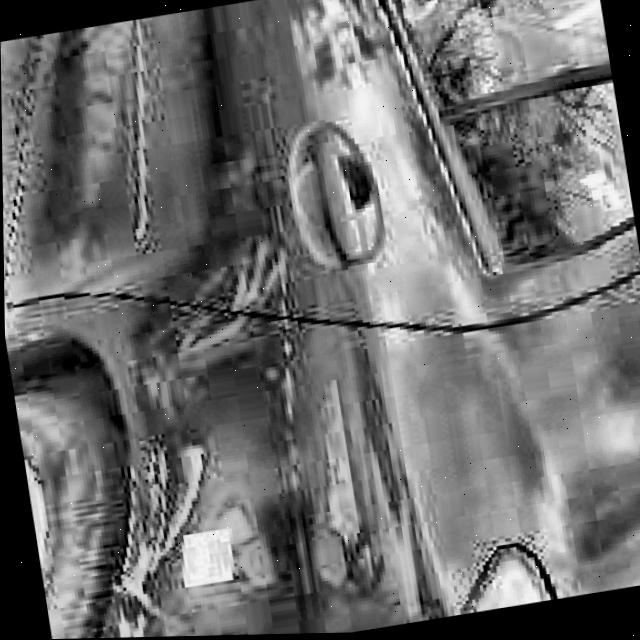door_scratch: (125, 244, 300, 368)
